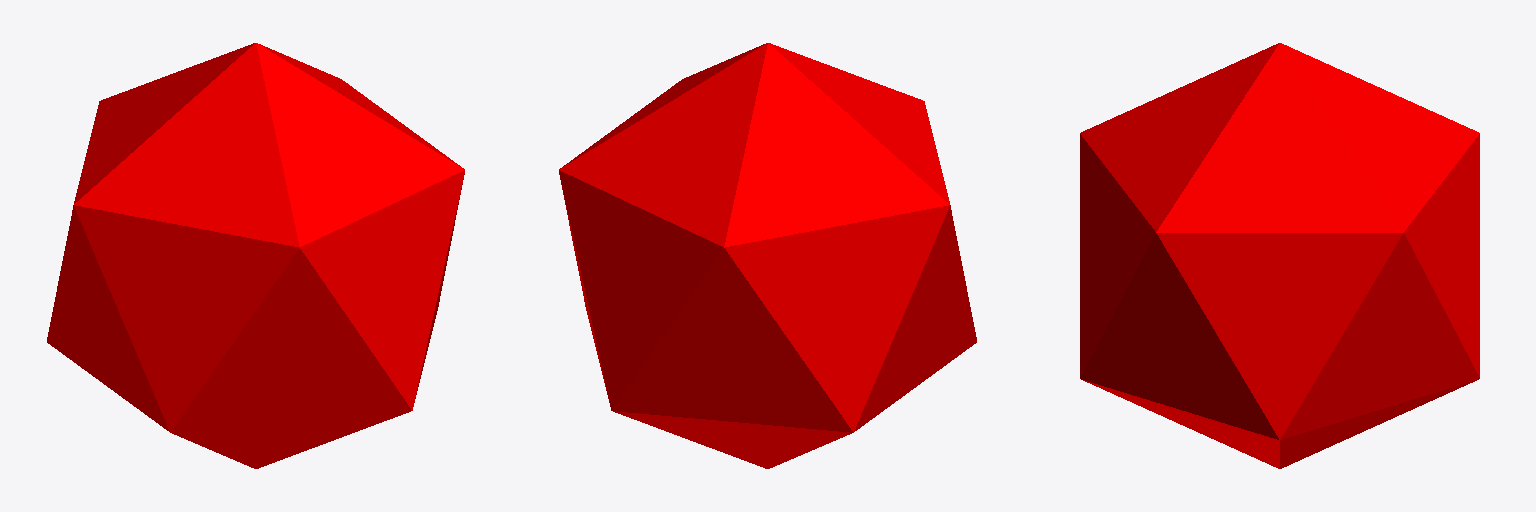
The model's file is debug_icosphere.obj.
3 renders of one model, left to right at view 1: azimuth 30°, elevation 25°; view 2: azimuth 150°, elevation 25°; view 3: azimuth 270°, elevation 25°, orthographic.
Visible parts, largest first — view 1: Icosphere; view 2: Icosphere; view 3: Icosphere.
Boxes of the visible parts, x1,y1,x2,y2 form: Icosphere: [47, 43, 464, 468]; Icosphere: [559, 43, 976, 468]; Icosphere: [1080, 43, 1479, 468].
Size of the model in its own units: 0.1789 by 0.2 by 0.1701.